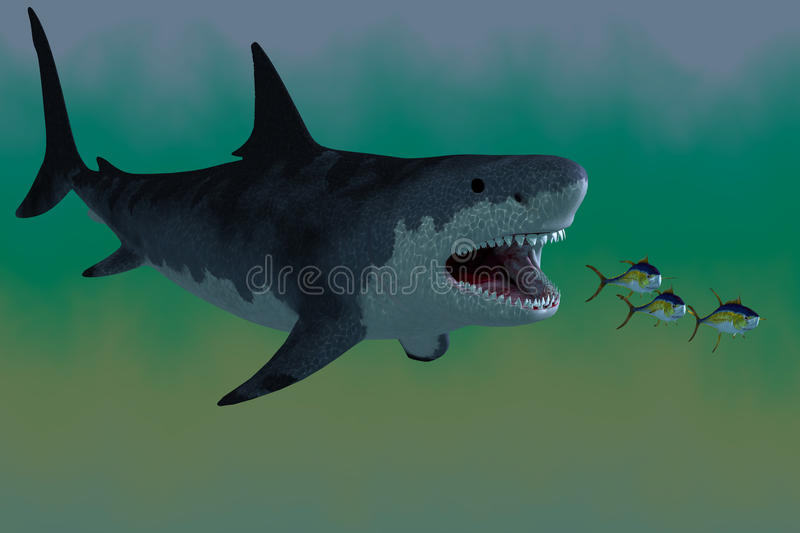shark: (13, 1, 602, 406)
